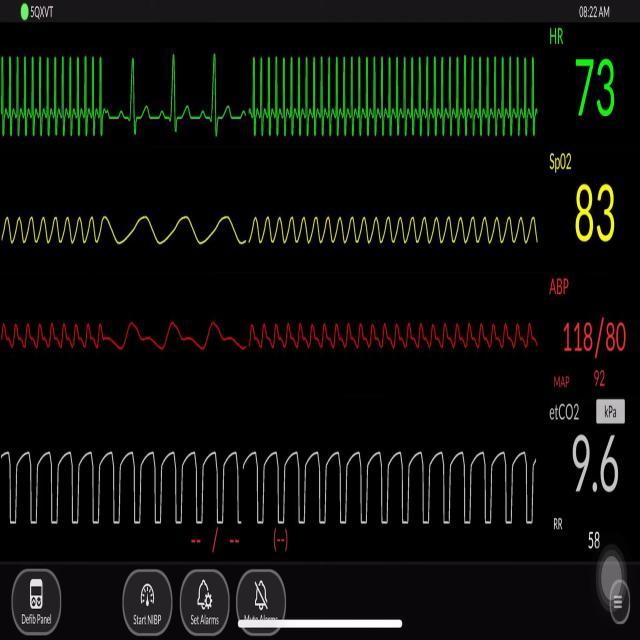danger: (251, 47, 536, 140), (2, 48, 105, 140)
